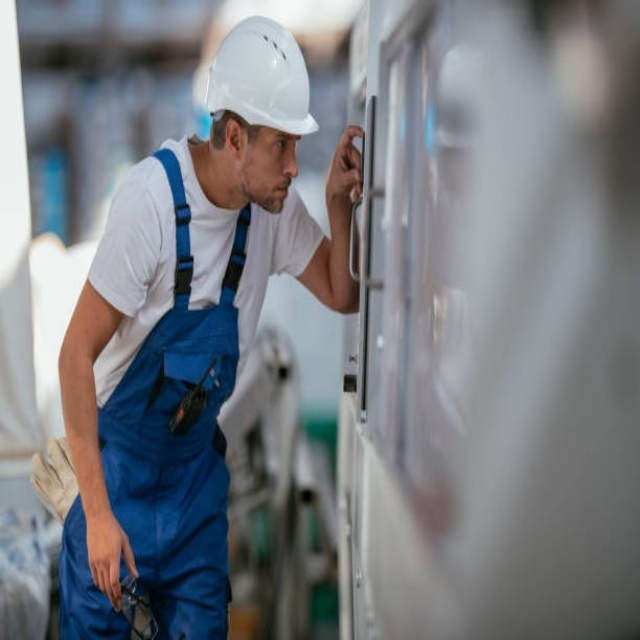Sin_gafas: (255, 133, 305, 155)
Sin_guantes: (85, 509, 139, 608), (320, 118, 368, 215)
Sin_mascara: (267, 174, 295, 210)
